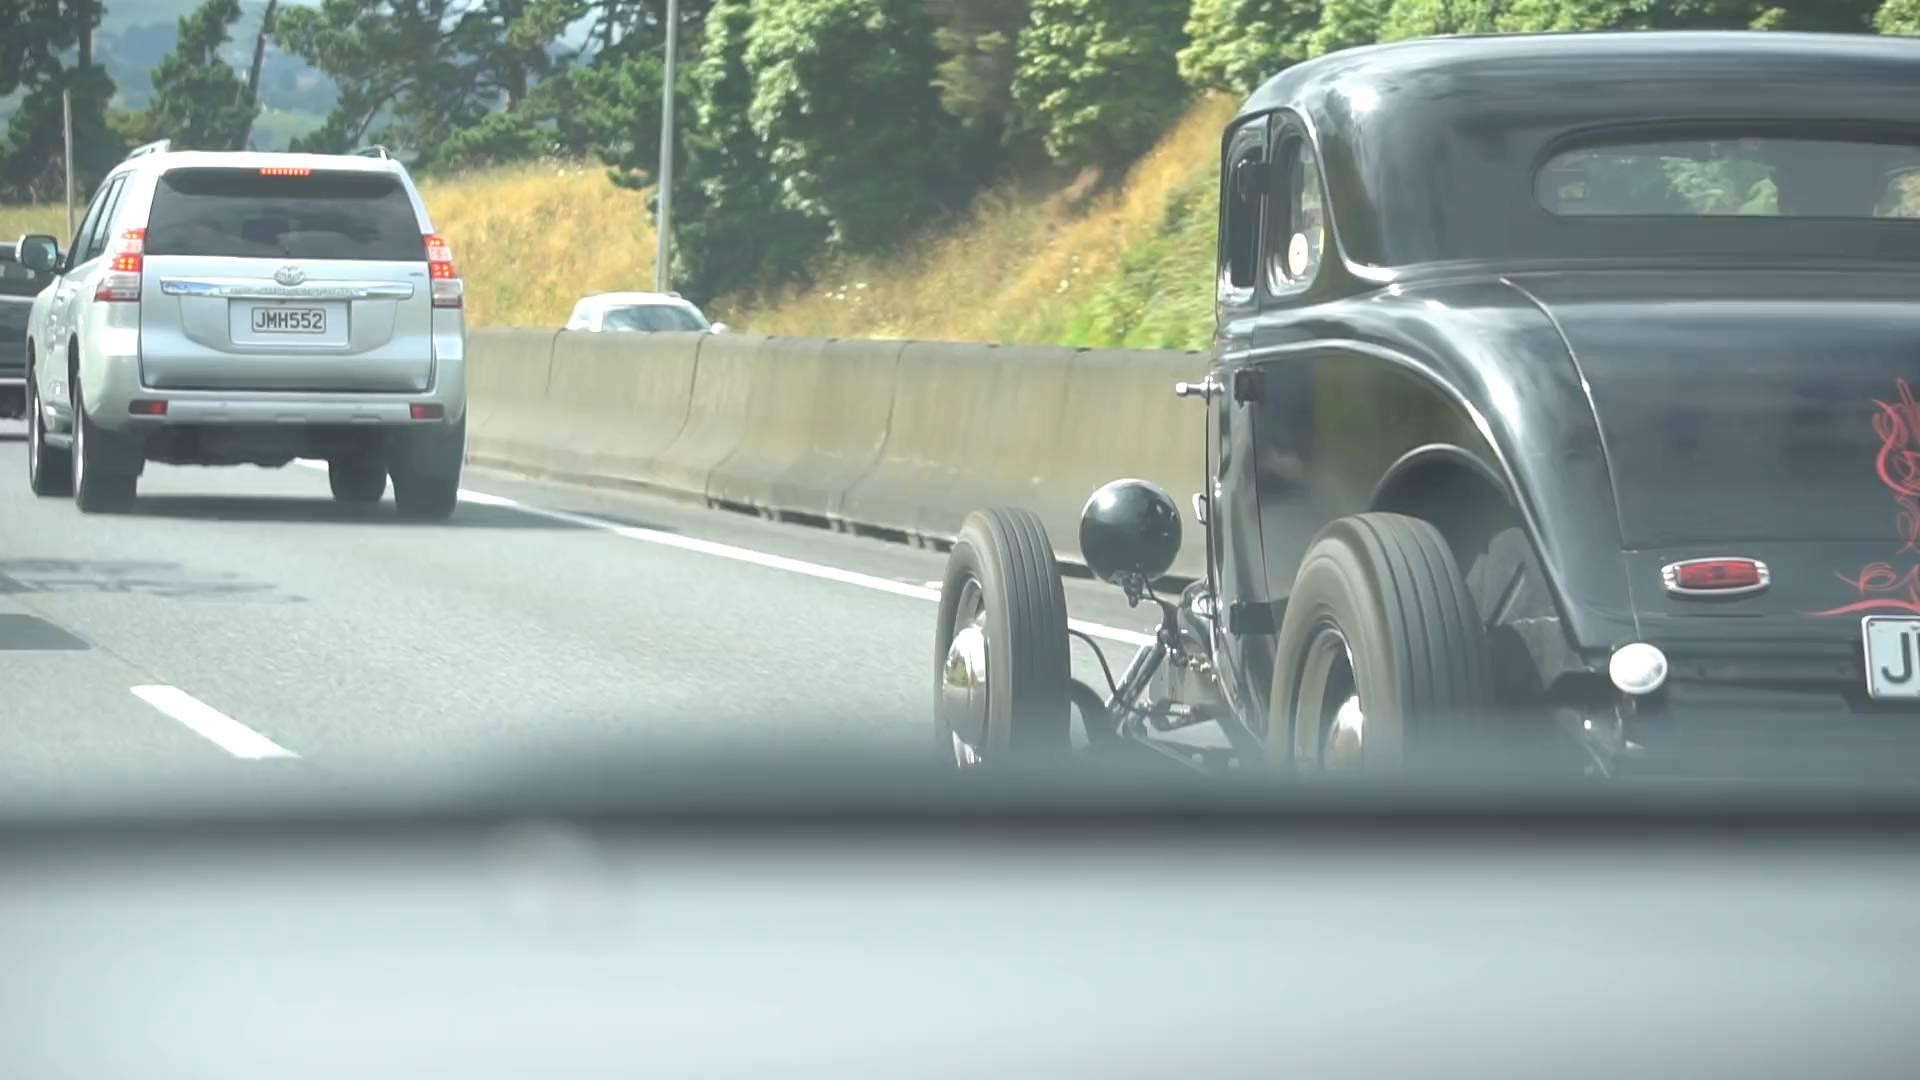car: (14, 132, 473, 519)
license_plate: (247, 301, 330, 332)
